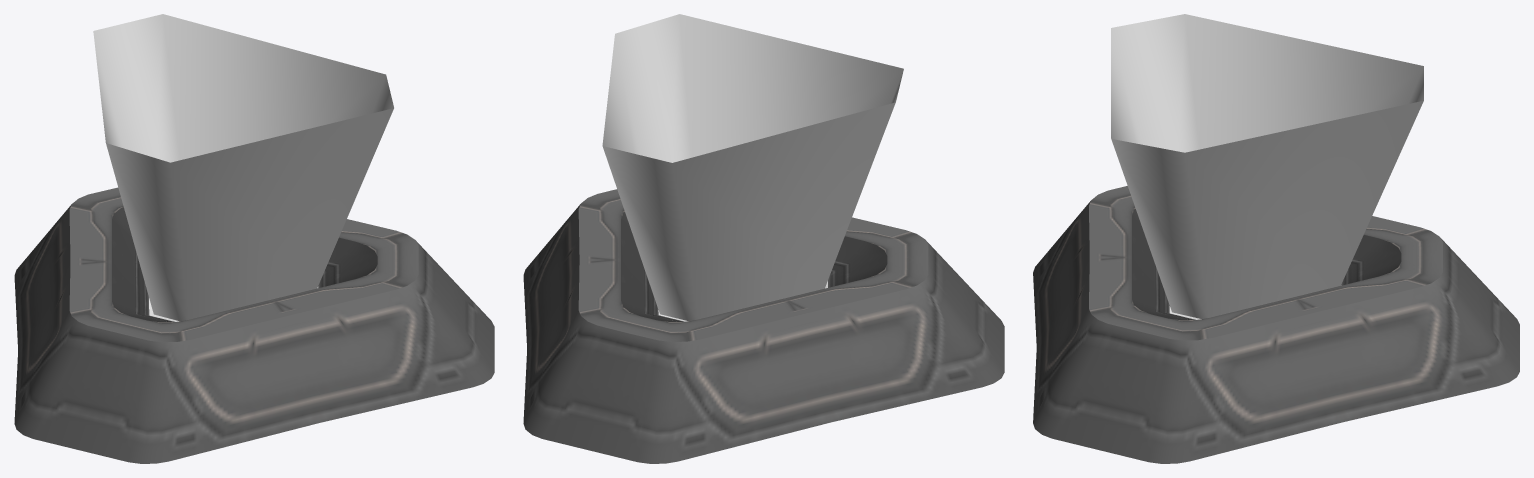
Rendered from Prop_ItemHolder.gltf.
The picture shows the model from 3 angles, left to right: view 1: azimuth 30°, elevation 25°; view 2: azimuth 150°, elevation 25°; view 3: azimuth 270°, elevation 25°; orthographic projection.
Visible parts, largest first — view 1: Prop_ItemHolder; view 2: Prop_ItemHolder; view 3: Prop_ItemHolder.
Part boxes in pixels (box(x1,y1,x2,y2)): Prop_ItemHolder: box(14, 14, 494, 463); Prop_ItemHolder: box(523, 14, 1004, 463); Prop_ItemHolder: box(1033, 14, 1519, 463).
Size of the model in its own units: 0.8186 by 0.4358 by 0.7267.
3 materials, 2 textured.
